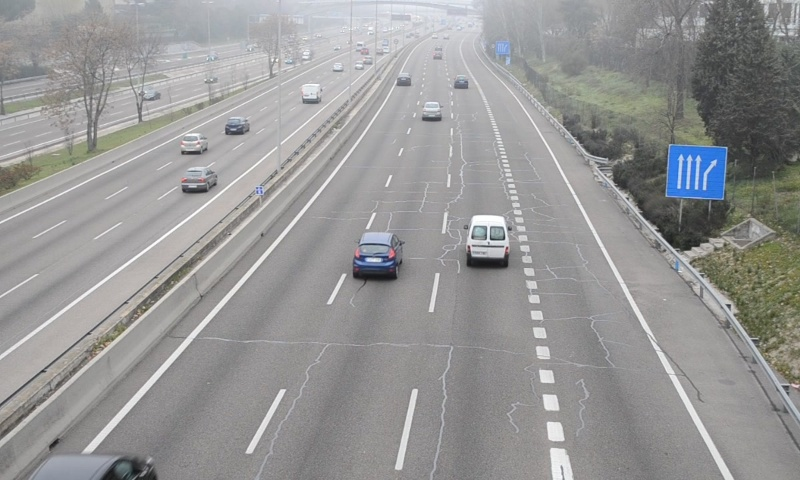car: (354, 232, 402, 276), (421, 102, 442, 120), (396, 70, 412, 87), (452, 75, 469, 90)
van: (465, 214, 508, 265)
